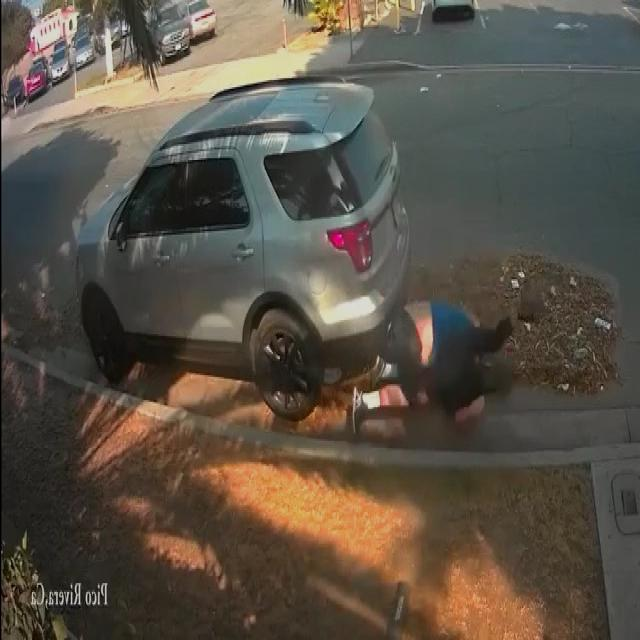fight: (350, 284, 540, 436)
